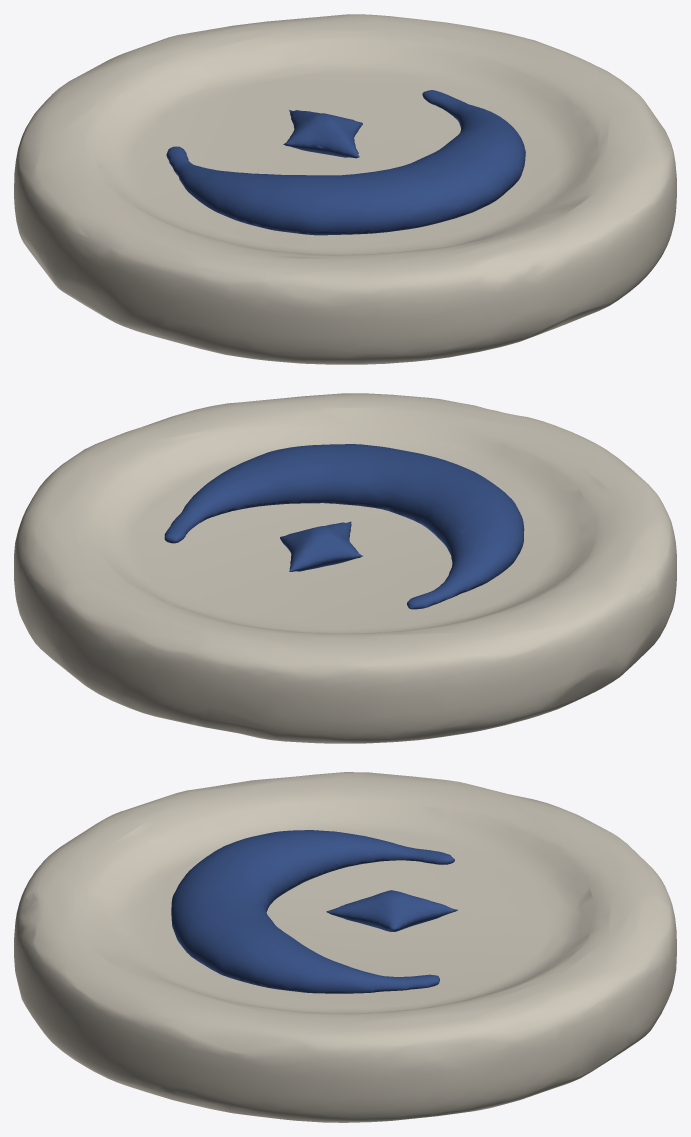
File: token-mage-blue-draco.glb
The picture shows the model from 3 angles, top to bottom: view 1: azimuth 30°, elevation 25°; view 2: azimuth 150°, elevation 25°; view 3: azimuth 270°, elevation 25°; orthographic projection.
Visible parts, largest first — view 1: token_mage_blue; view 2: token_mage_blue; view 3: token_mage_blue.
Boxes of the visible parts, x1,y1,x2,y2 form: token_mage_blue: [14, 14, 676, 364]; token_mage_blue: [14, 393, 676, 743]; token_mage_blue: [14, 772, 676, 1122].
Bounding box in the file's own units: 0.4139 × 0.0739 × 0.414.
